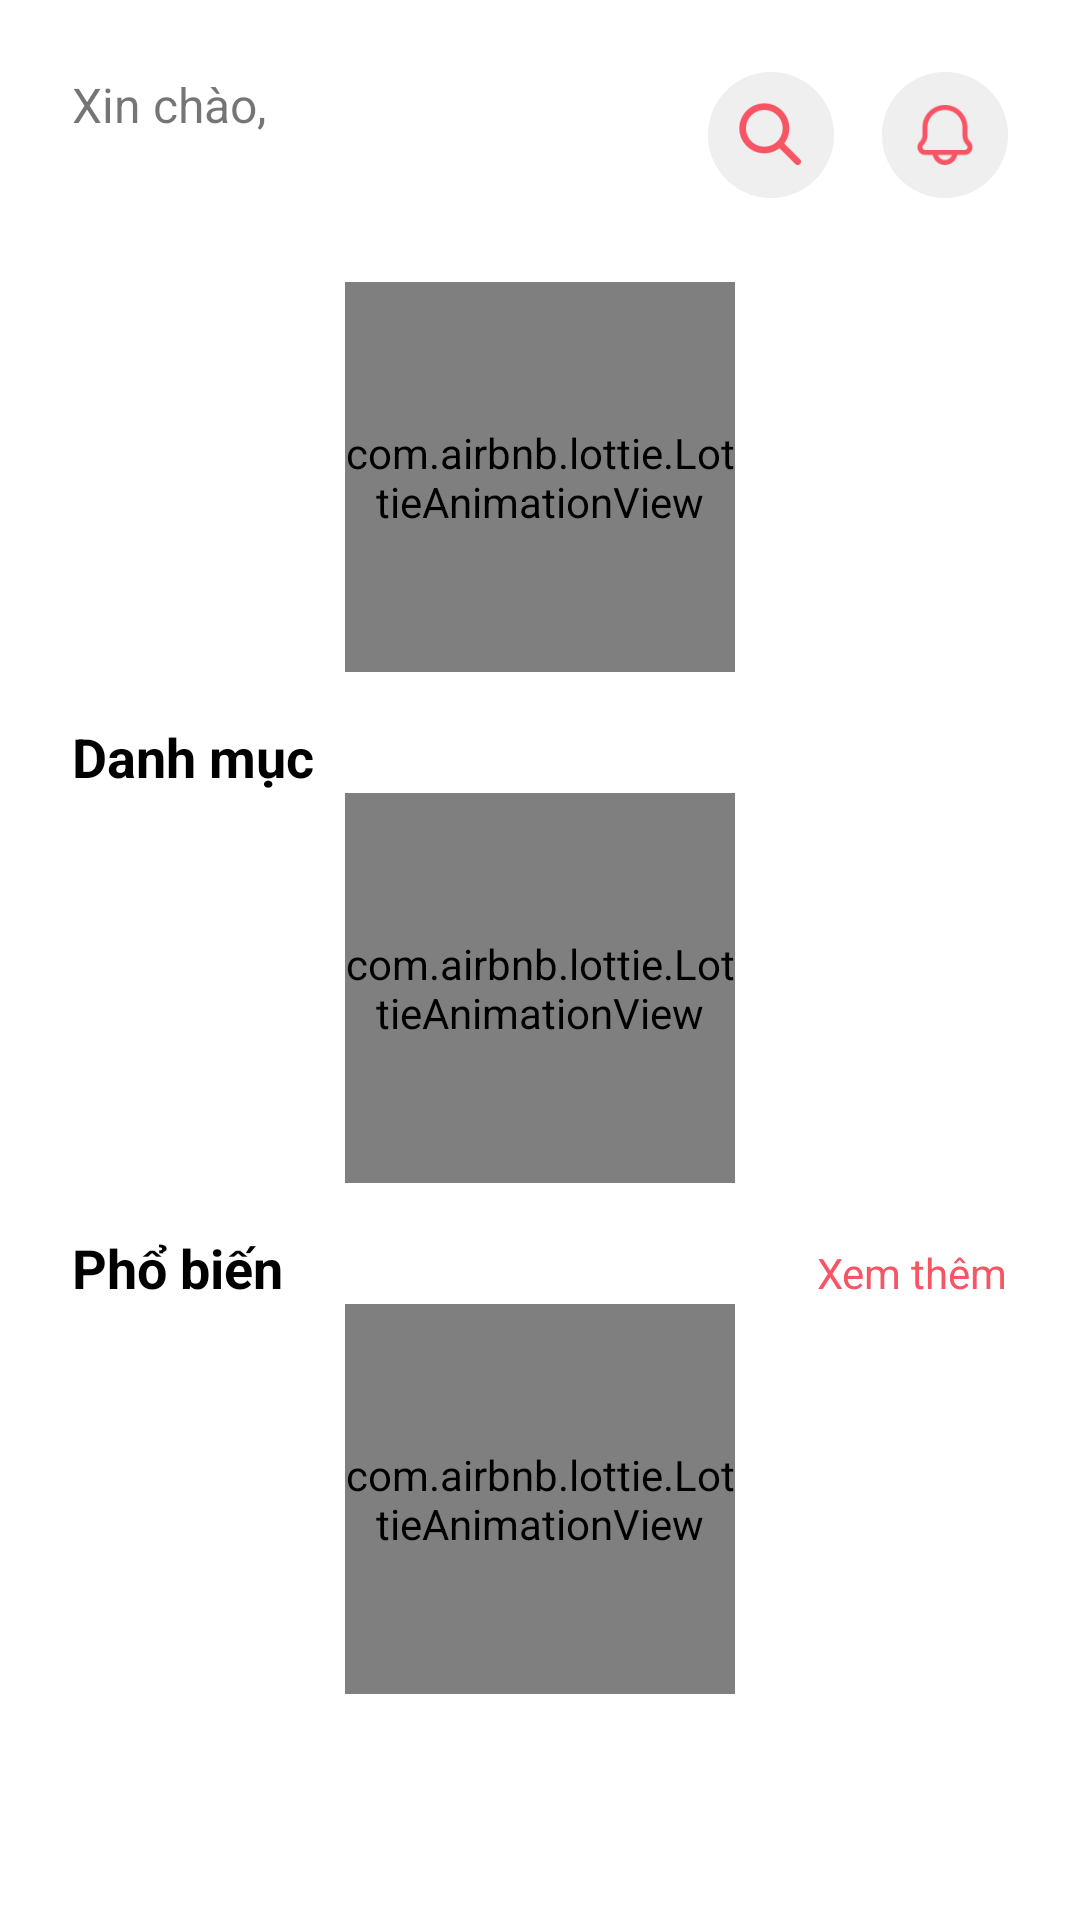

Icons on this 1080 x 1920 Android screen, each with its box as [x1=x1, y1=y1, x2=x2, y2=y2]:
bell: [x1=882, y1=72, x2=1008, y2=198]
search: [x1=708, y1=72, x2=834, y2=198]
